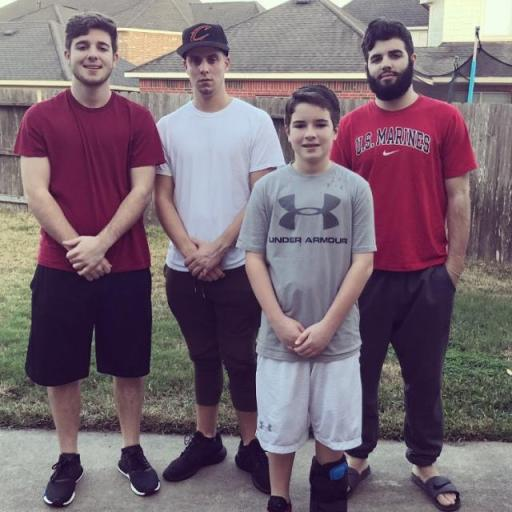Under Armour: (265, 190, 348, 246)
